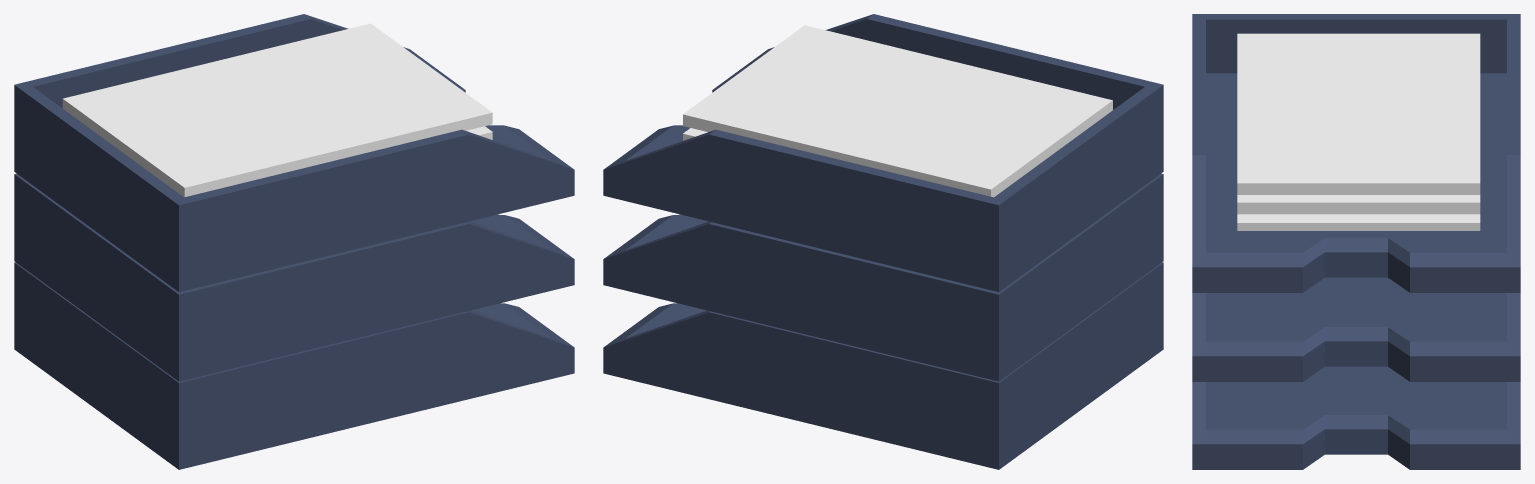
Rendered from SM_Document_Organizer_02.glb.
The picture shows the model from 3 angles, left to right: view 1: azimuth 30°, elevation 25°; view 2: azimuth 150°, elevation 25°; view 3: azimuth 270°, elevation 25°; orthographic projection.
Visible parts, largest first — view 1: SM_Document_Organizer_02; view 2: SM_Document_Organizer_02; view 3: SM_Document_Organizer_02.
Part boxes in pixels (box(x1,y1,x2,y2)): SM_Document_Organizer_02: box(14, 14, 574, 469); SM_Document_Organizer_02: box(603, 14, 1163, 469); SM_Document_Organizer_02: box(1192, 14, 1520, 469).
Size of the model in its own units: 0.413 by 0.2639 by 0.2978.
Materials: 1 (1 with a texture image).
